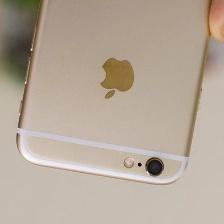phone: (9, 0, 224, 191)
